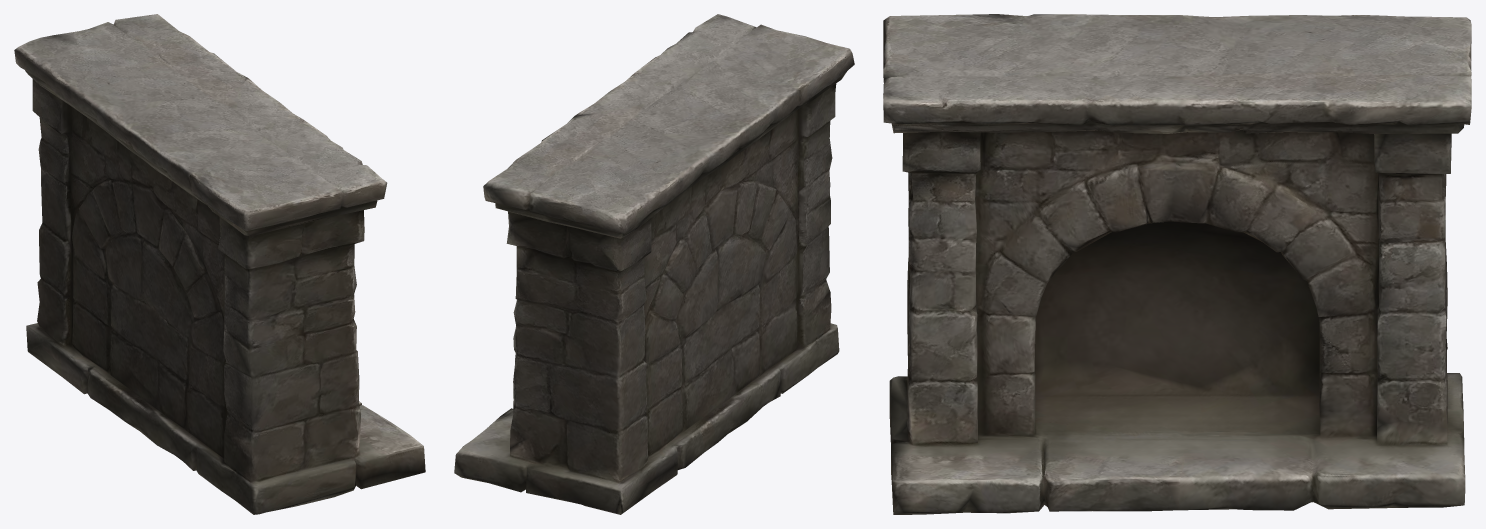
The model's file is stone_fireplace.glb.
3 views of the same model, side by side, from view 1: azimuth 30°, elevation 25°; view 2: azimuth 150°, elevation 25°; view 3: azimuth 270°, elevation 25° (orthographic). The views are drawn at different scales.
Visible parts, largest first — view 1: tripo_node_9721c88d-31be-4291-b39f-0832083fe7e4; view 2: tripo_node_9721c88d-31be-4291-b39f-0832083fe7e4; view 3: tripo_node_9721c88d-31be-4291-b39f-0832083fe7e4.
Part boxes in pixels (box(x1,y1,x2,y2)): tripo_node_9721c88d-31be-4291-b39f-0832083fe7e4: box(14, 14, 425, 514); tripo_node_9721c88d-31be-4291-b39f-0832083fe7e4: box(454, 14, 854, 514); tripo_node_9721c88d-31be-4291-b39f-0832083fe7e4: box(883, 14, 1471, 514).
Size of the model in its own units: 0.46 by 0.7359 by 1.
1 material, 1 textured.
